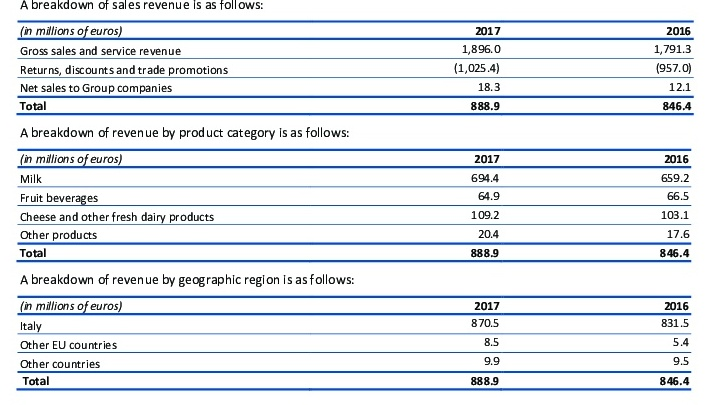table: (0, 0, 709, 405)
